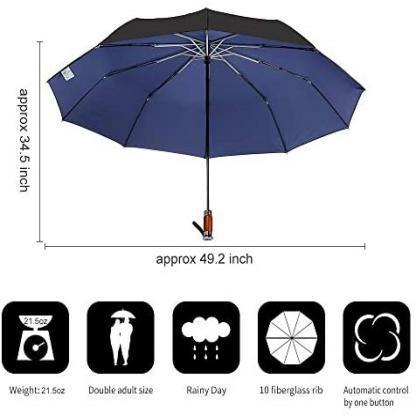Umbrella: (32, 6, 402, 245)
